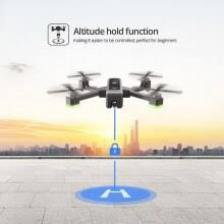drone: (46, 64, 179, 116)
